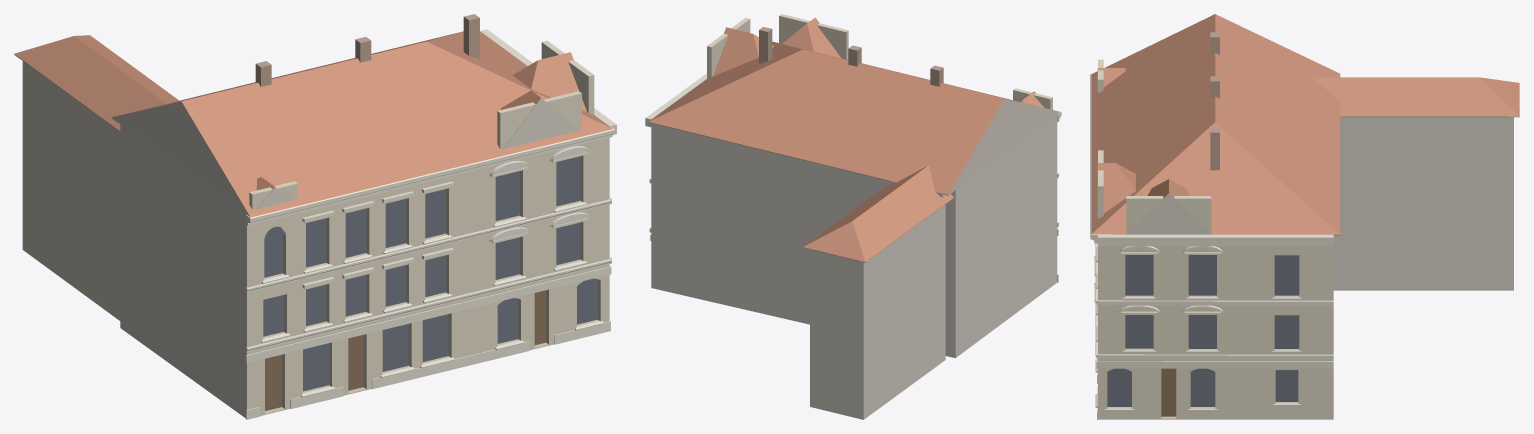
3 views of the same model, side by side, from view 1: azimuth 30°, elevation 25°; view 2: azimuth 150°, elevation 25°; view 3: azimuth 270°, elevation 25° (orthographic). The views are drawn at different scales.
Parts seen in each view (by area): view 1: CP_249_Masonry, CP_249_Roof, CP_249_Rear_Wing, CP_249_WingRoof_Rear_Wing, CP_249_Gable_L_gable, CP_249_Cornice_sign_0, CP_249_Cornice_main_0, CP_249_Cornice_string1_0, CP_249_Cornice_string2_0, CP_249_WingRoof_BayGable, CP_249_WingRoof_SouthGable, CP_249_BayGable_Wall (+6 smaller); view 2: CP_249_Masonry, CP_249_Roof, CP_249_Rear_Wing, CP_249_WingRoof_Rear_Wing, CP_249_Gable_L_gable, CP_249_WingRoof_SouthGable, CP_249_BayGable_Wall, CP_249_WingRoof_BayGable, CP_249_SouthGable_Wall, CP_249_Chimney_2, CP_249_Cornice_south_main; view 3: CP_249_Roof, CP_249_Masonry, CP_249_Rear_Wing, CP_249_WingRoof_Rear_Wing, CP_249_Cornice_south_main, CP_249_SouthGable_Wall, CP_249_WingRoof_SouthGable, CP_249_Cornice_south_sign, CP_249_Cornice_south_string1, CP_249_Cornice_south_string2, CP_249_WingRoof_BayGable, CP_249_Chimney_2.
Boxes of the visible parts, x1,y1,x2,y2 form: CP_249_Masonry: [120, 124, 609, 418]; CP_249_Roof: [117, 31, 612, 217]; CP_249_Rear_Wing: [22, 61, 120, 320]; CP_249_WingRoof_Rear_Wing: [14, 35, 178, 130]; CP_249_Gable_L_gable: [111, 101, 249, 216]; CP_249_Cornice_sign_0: [246, 266, 611, 362]; CP_249_Cornice_main_0: [246, 126, 614, 225]; CP_249_Cornice_string1_0: [246, 258, 611, 352]; CP_249_Cornice_string2_0: [246, 199, 611, 292]; CP_249_WingRoof_BayGable: [500, 90, 578, 148]; CP_249_WingRoof_SouthGable: [512, 52, 594, 114]; CP_249_BayGable_Wall: [497, 91, 581, 149]; CP_249_Masonry: [651, 115, 1057, 358]; CP_249_Roof: [648, 41, 1042, 194]; CP_249_Rear_Wing: [810, 204, 945, 419]; CP_249_WingRoof_Rear_Wing: [803, 165, 953, 262]; CP_249_Gable_L_gable: [944, 98, 1059, 195]; CP_249_WingRoof_SouthGable: [713, 27, 773, 76]; CP_249_BayGable_Wall: [779, 14, 848, 59]; CP_249_WingRoof_BayGable: [782, 17, 840, 58]; CP_249_SouthGable_Wall: [707, 18, 750, 78]; CP_249_Chimney_2: [759, 27, 772, 63]; CP_249_Cornice_south_main: [645, 73, 706, 127]; CP_249_Roof: [1091, 14, 1340, 234]; CP_249_Masonry: [1098, 246, 1333, 419]; CP_249_Rear_Wing: [1333, 117, 1513, 290]; CP_249_WingRoof_Rear_Wing: [1312, 77, 1519, 116]; CP_249_Cornice_south_main: [1098, 234, 1333, 246]; CP_249_SouthGable_Wall: [1126, 196, 1211, 234]; CP_249_WingRoof_SouthGable: [1126, 179, 1211, 234]; CP_249_Cornice_south_sign: [1098, 361, 1333, 368]; CP_249_Cornice_south_string1: [1098, 354, 1333, 359]; CP_249_Cornice_south_string2: [1098, 300, 1333, 305]; CP_249_WingRoof_BayGable: [1097, 163, 1135, 217]; CP_249_Chimney_2: [1210, 127, 1219, 170].
Bounding box in the file's own units: 20.54 × 15.2 × 22.7.
